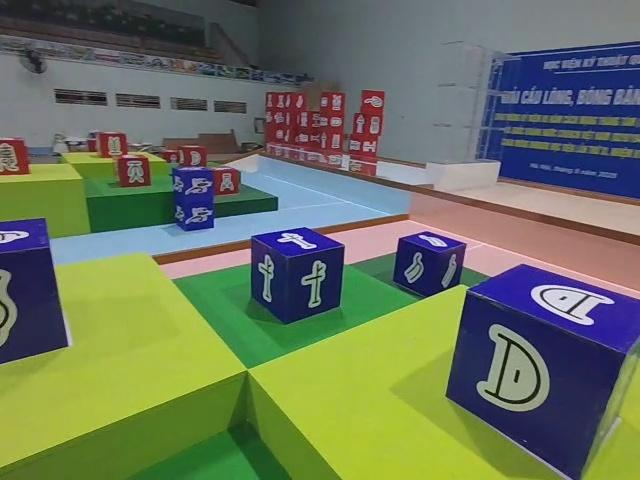R2 Real Blue: (450, 264, 640, 463), (0, 220, 69, 385), (0, 219, 69, 381), (249, 227, 345, 327), (393, 232, 468, 300)
